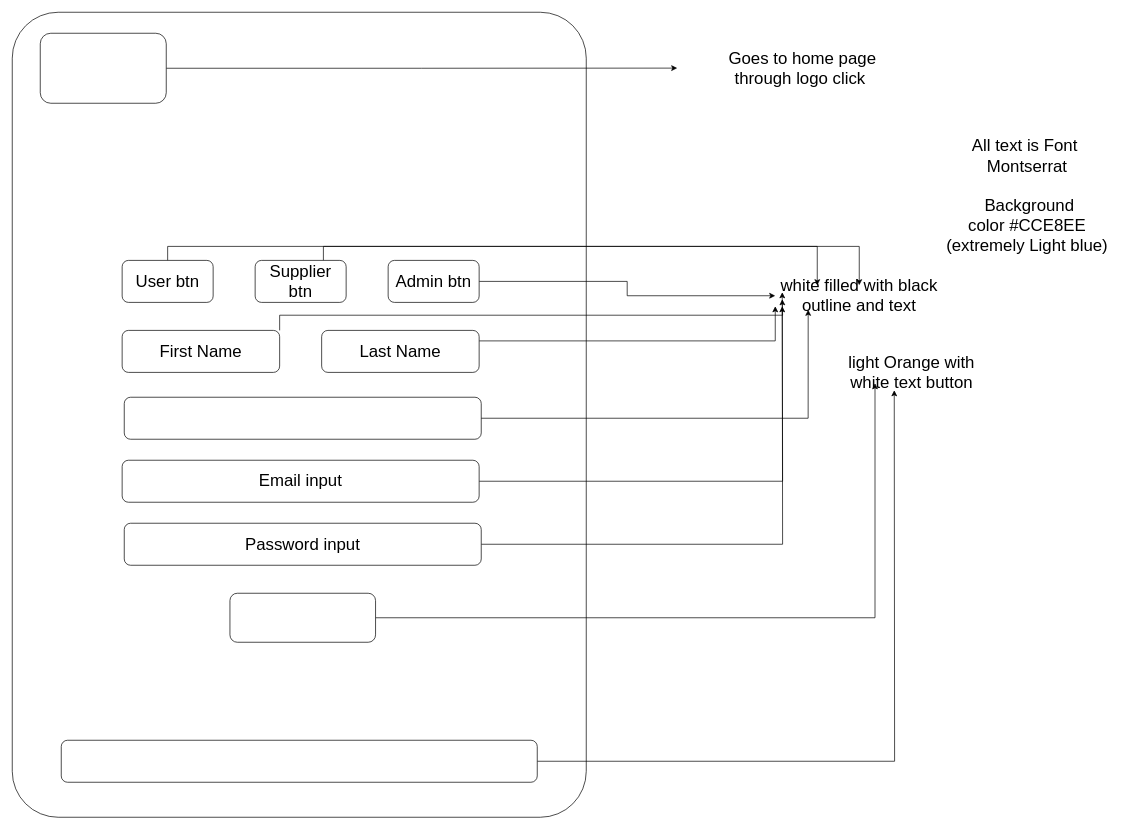
The diagram is 1124 pixels wide and 830 high, and some of its shapes have lost their labels. The shapes that lost their labels are listed below. From the top down, each one's box as (x1, y1, x2, y2) in pixels, then its label:
(40, 33, 166, 103): IMG BTN Logo
(124, 397, 481, 439): Admin Keyinput
(229, 593, 376, 642): Register Btn
(61, 740, 537, 782): Login Instead Btn
